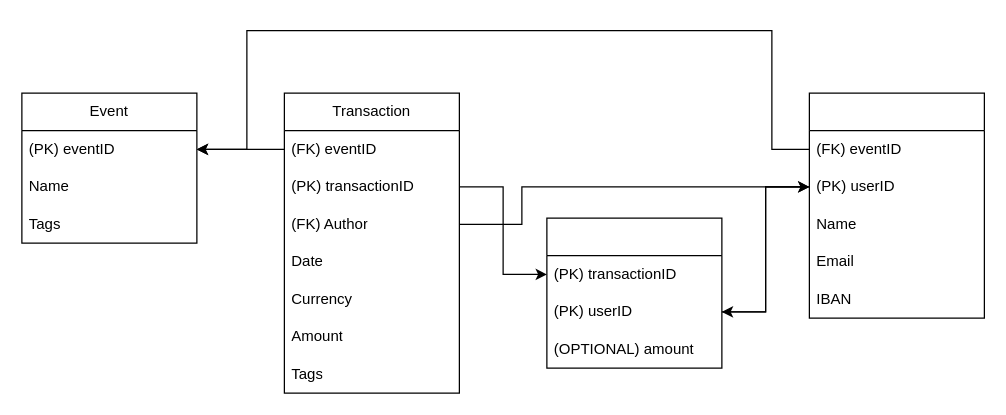
The diagram is 1006 pixels wide and 415 high, and some of its shapes have lost their labels. The shapes that lost their labels are listed below. From the top down, each one's box as (x1, y1, x2, y2) in pixels, then its label:
(808, 92, 984, 318): Participant
(546, 217, 722, 368): transactionParticipant
